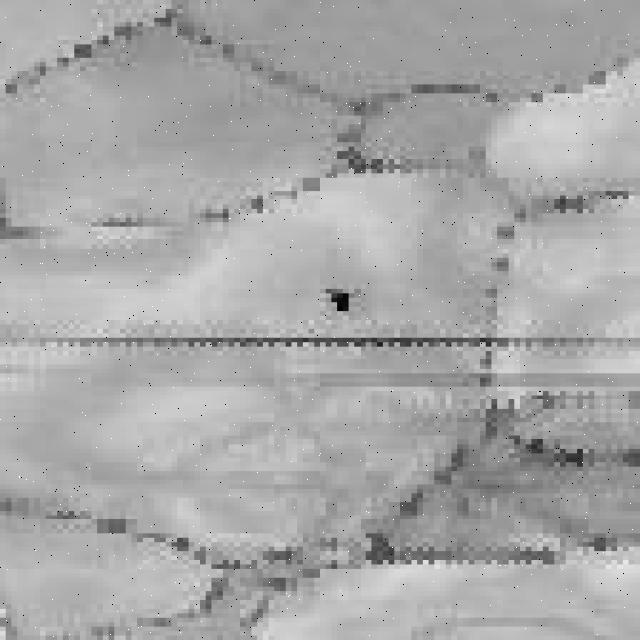good_void: (323, 286, 359, 316)
